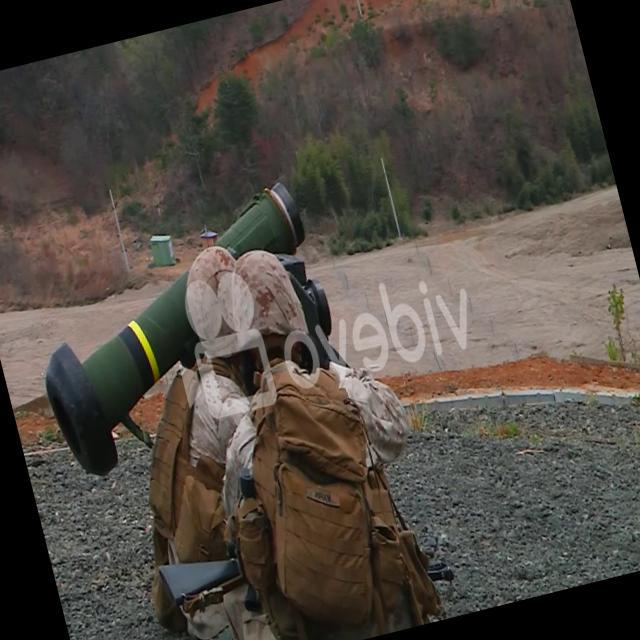rocket: (20, 184, 343, 483)
